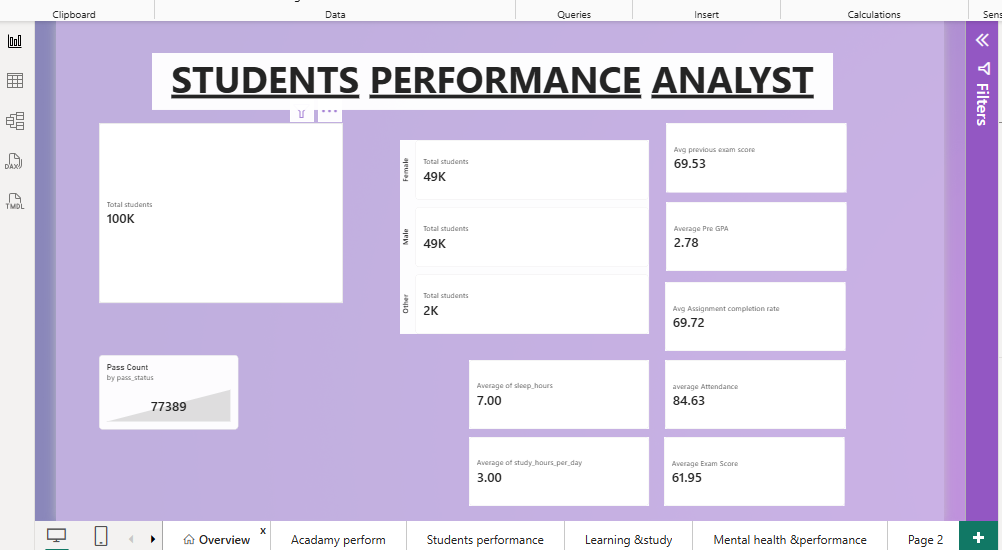

Layout of this report page (visuals, bound fields, positions):
{"tool":"powerbi","page":{"name":"Overview","canvas":[1920,1080],"ordinal":0},"visuals":[{"type":"cardVisual","fields":{"Data":["student_exam_performance.Count of student_id running total in gender"]},"box":[92.9,220.3,527,388.8],"z":0},{"type":"cardVisual","fields":{"Data":["student_exam_performance.Average Exam Score 1"]},"box":[1313.3,898.6,390.4,149.3],"z":1000},{"type":"kpi","fields":{"Indicator":["student_exam_performance.1","select"],"TrendLine":["student_exam_performance.pass_status"]},"box":[92.9,721.4,300.9,160.8],"z":2000},{"type":"cardVisual","fields":{"Data":["student_exam_performance.average Attendance"]},"box":[1315.4,732.2,391,149],"z":3000},{"type":"cardVisual","fields":{"Data":["student_exam_performance.Average Pre GPA"]},"box":[1317.6,391,390.4,149.3],"z":4000},{"type":"cardVisual","fields":{"Data":["student_exam_performance.Total students"],"Rows":["student_exam_performance.gender"]},"box":[743,257,537.8,419],"z":5000},{"type":"cardVisual","fields":{"Data":["student_exam_performance.Avg Assignment completion rate"]},"box":[1315.4,563.8,390.4,149.3],"z":7000},{"type":"cardVisual","fields":{"Data":["student_exam_performance.Avg previous exam score"]},"box":[1317.6,220.3,390,150],"z":8000},{"type":"textbox","box":[207.4,69.1,1471,123.1],"z":8001},{"type":"cardVisual","fields":{"Data":["Avg(student_exam_performance.sleep_hours)"]},"box":[891.3,733.2,389.5,148.9],"z":8002},{"type":"cardVisual","fields":{"Data":["Avg(student_exam_performance.study_hours_per_day)"]},"box":[891.3,898.1,389.5,148.9],"z":8003}]}

Visuals, with their boxes on the page's 1920x1080 design canvas (x1, y1, x2, y2). These are canvas units, not pixel positions in the 1002x550 screenshot, which may show the page scaled, cropped or inside an application window:
cardVisual - student_exam_performance.Count of student_id running total in gender: l=93, t=220, r=620, b=609
cardVisual - student_exam_performance.Average Exam Score 1: l=1313, t=899, r=1704, b=1048
kpi - student_exam_performance.1 x select: l=93, t=721, r=394, b=882
cardVisual - student_exam_performance.average Attendance: l=1315, t=732, r=1706, b=881
cardVisual - student_exam_performance.Average Pre GPA: l=1318, t=391, r=1708, b=540
cardVisual - student_exam_performance.Total students x student_exam_performance.gender: l=743, t=257, r=1281, b=676
cardVisual - student_exam_performance.Avg Assignment completion rate: l=1315, t=564, r=1706, b=713
cardVisual - student_exam_performance.Avg previous exam score: l=1318, t=220, r=1708, b=370
textbox: l=207, t=69, r=1678, b=192
cardVisual - Avg(student_exam_performance.sleep_hours): l=891, t=733, r=1281, b=882
cardVisual - Avg(student_exam_performance.study_hours_per_day): l=891, t=898, r=1281, b=1047
